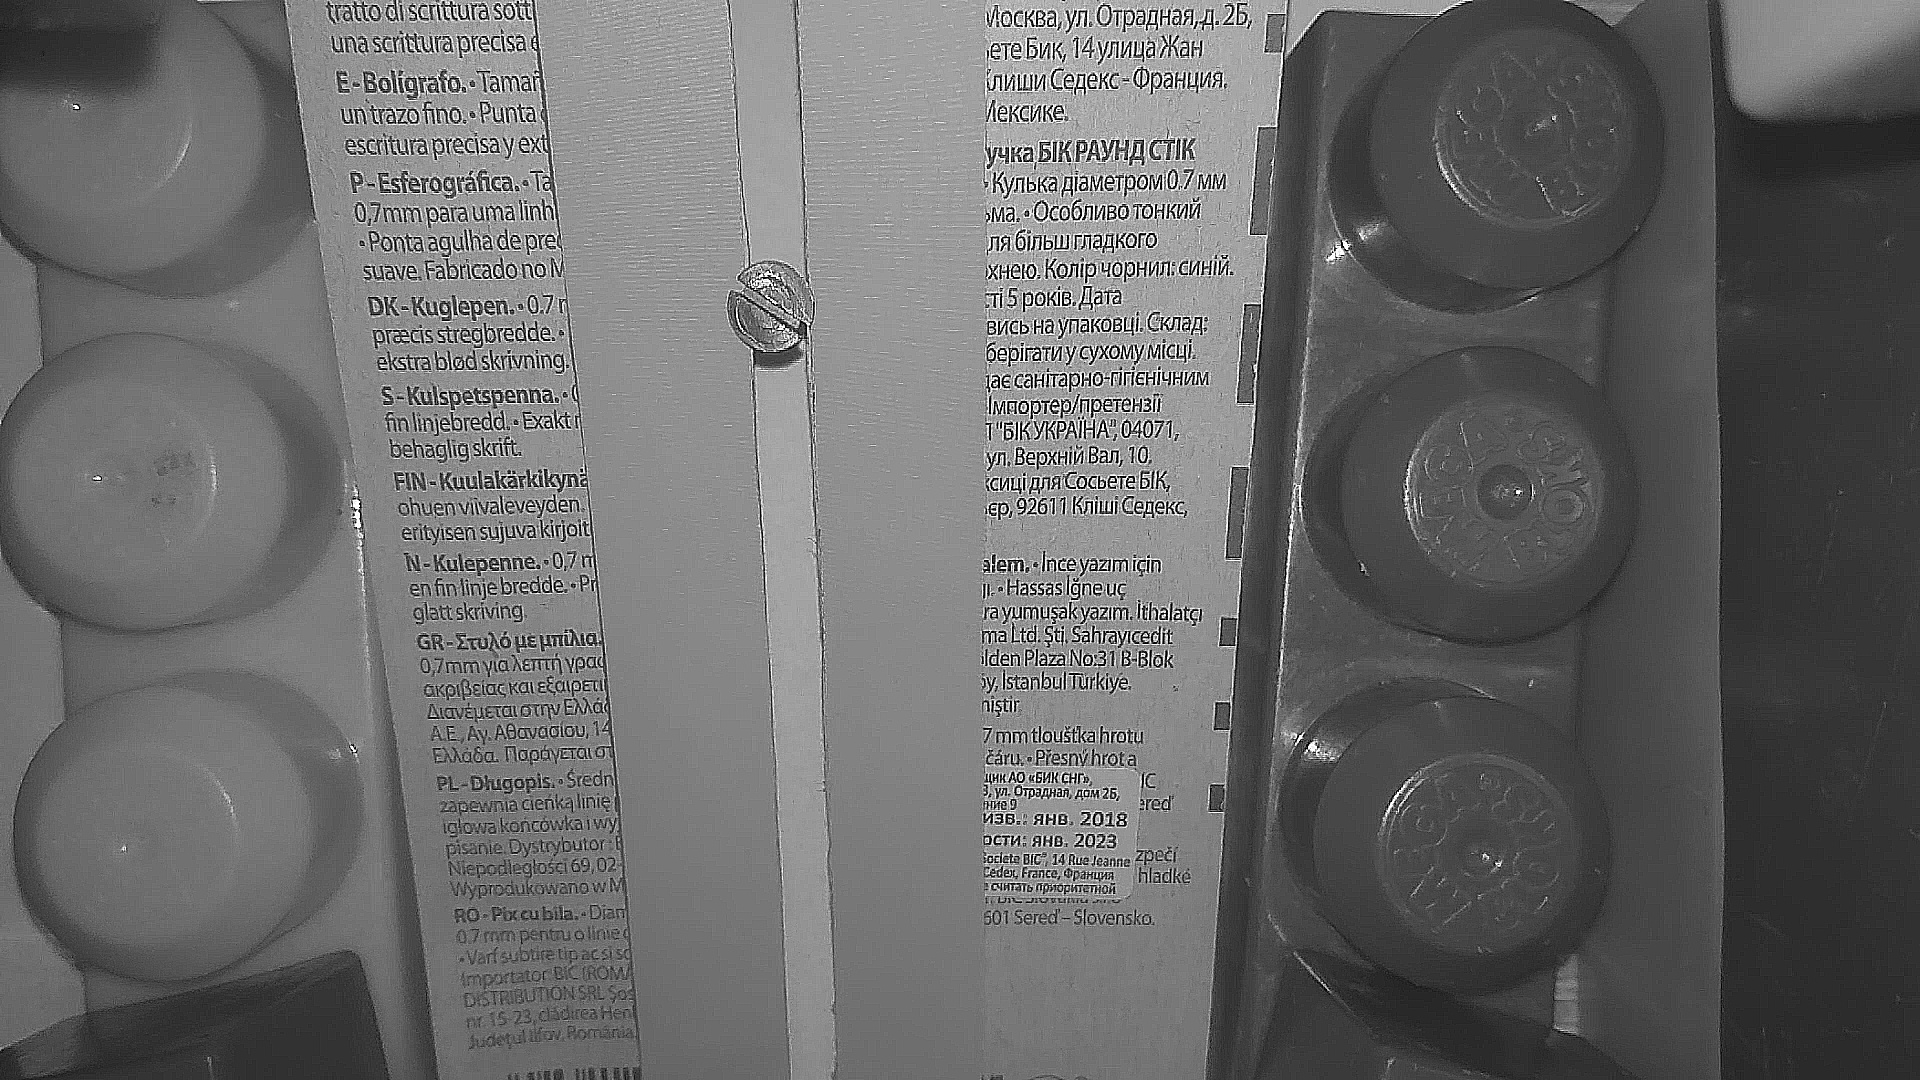i: (729, 262, 814, 353)
